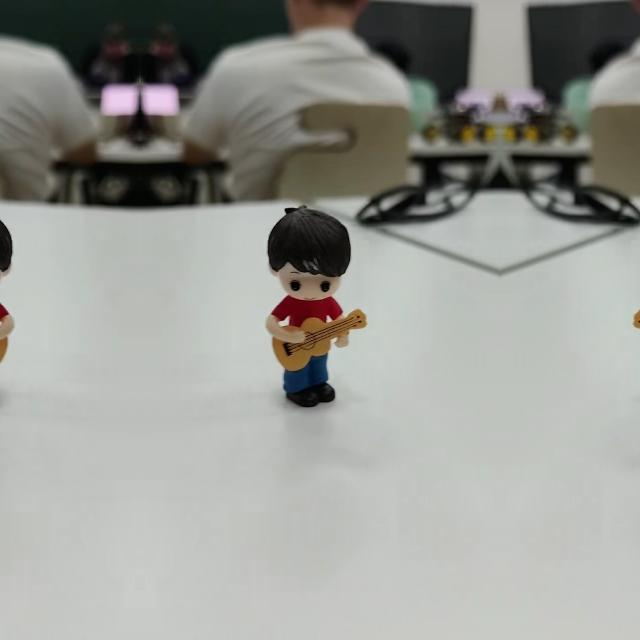man cloth: (270, 294, 342, 330), (0, 294, 10, 330)
man head: (268, 205, 354, 305), (0, 205, 11, 305)
trousers: (280, 350, 336, 410)
